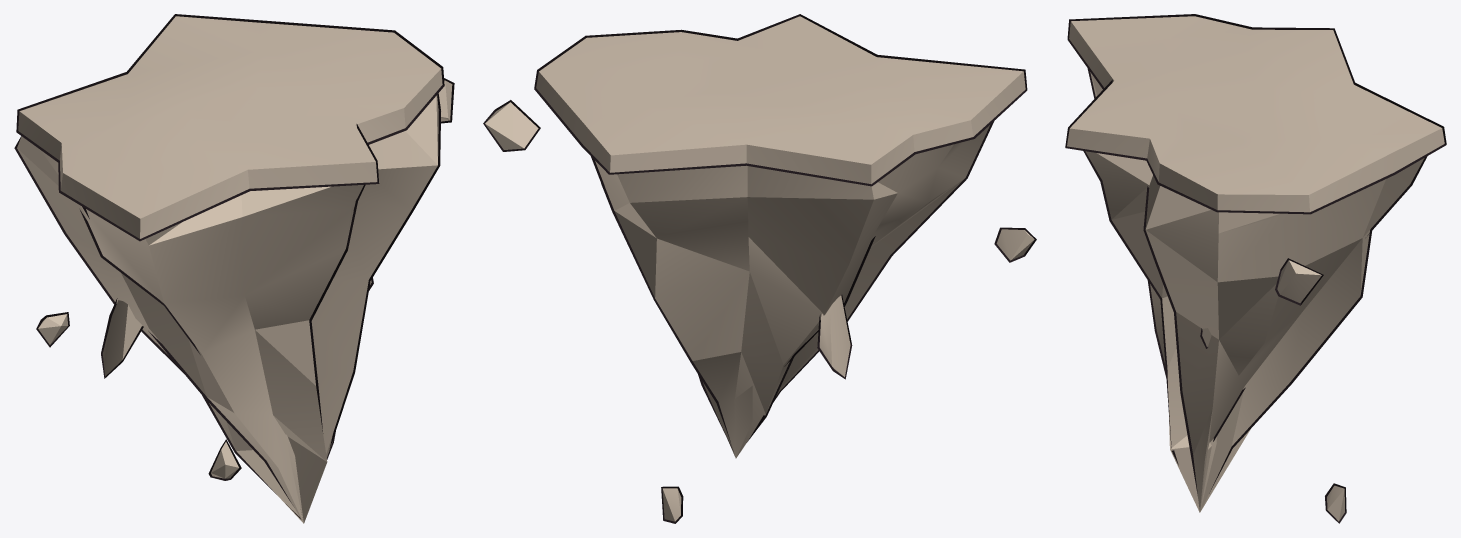
File: SM_Mtn_Island_01.fbx
3 views of the same model, side by side, from view 1: azimuth 30°, elevation 25°; view 2: azimuth 150°, elevation 25°; view 3: azimuth 270°, elevation 25° (orthographic). The views are drawn at different scales.
Parts seen in each view (by area): view 1: SM_Mtn_Island_01; view 2: SM_Mtn_Island_01; view 3: SM_Mtn_Island_01.
Part boxes in pixels (bbox=[...]): SM_Mtn_Island_01: bbox=[14, 14, 454, 523]; SM_Mtn_Island_01: bbox=[483, 14, 1036, 523]; SM_Mtn_Island_01: bbox=[1065, 14, 1446, 523].
Bounding box in the file's own units: 28.79 × 24.02 × 20.62.
